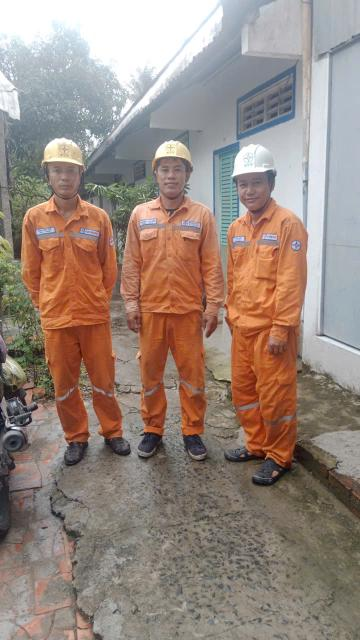helmet: (226, 141, 281, 183), (34, 137, 90, 173), (149, 138, 196, 175)
shoes: (42, 428, 98, 470), (172, 422, 222, 467), (253, 452, 300, 495), (221, 428, 268, 466), (130, 419, 168, 463), (101, 426, 139, 467)
